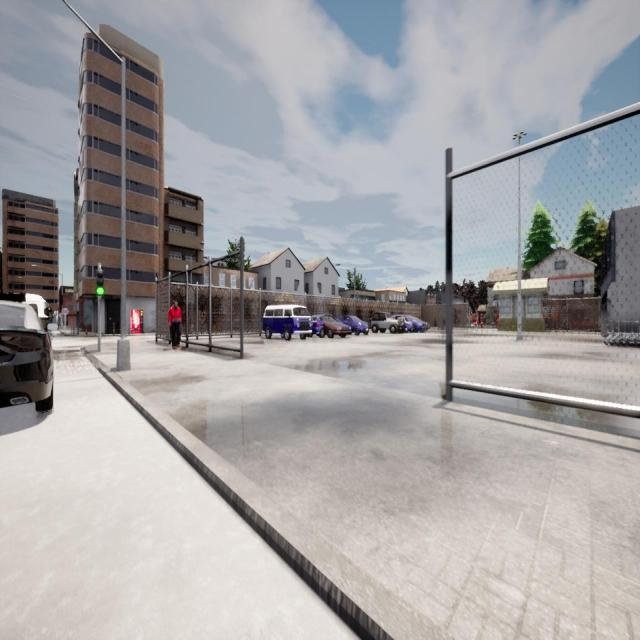Pedestrian: (168, 301, 182, 349)
Traffic_Signs: (62, 308, 68, 315), (59, 313, 62, 317)
Vehicle: (0, 301, 55, 408), (263, 306, 312, 339), (26, 294, 52, 327), (313, 315, 350, 338), (371, 312, 402, 333), (394, 314, 429, 332), (338, 316, 369, 334)
traffic_light: (96, 270, 104, 295)
